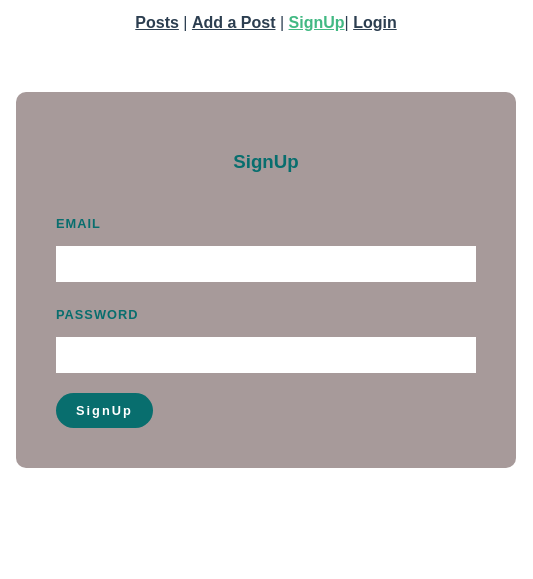
it: Testing the sign up form when password is not valid
The width and height of the screenshot is (533, 579).
Expected: the label "Email" is shown, [56,216,101,231]
Expected: the button "SignUp" has style "display", [56,393,153,428]
Note: ----- Your code goes here
Type "name@ut.ee" into the field named "email" at (266, 264), box [56,246,476,282]
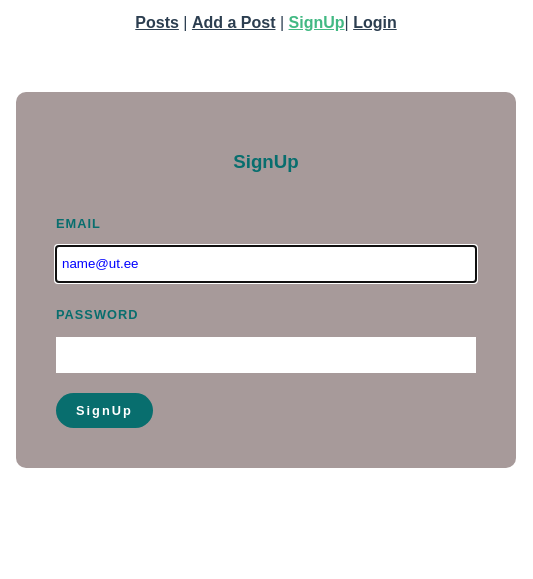
Type "123" into the password field named "password" at (266, 355), box [56,337,476,373]
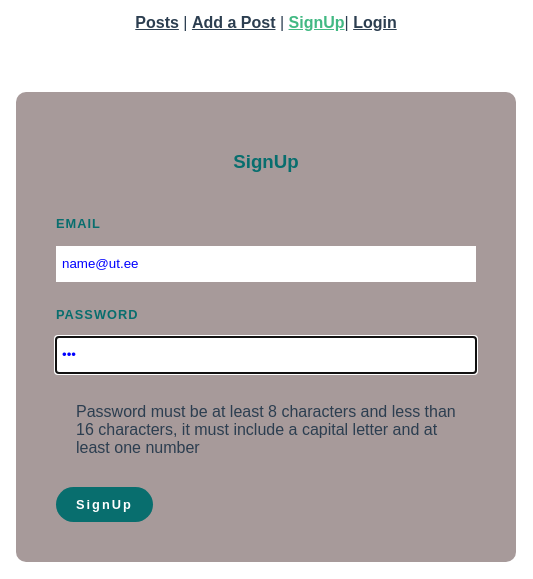
Expected: the button "SignUp" is shown, [56,487,153,522]
Result: the text "Password must be at least 8 characters and less than 16 characters, it must include a capital letter and at least one nu" is shown at [76,403,456,456]
